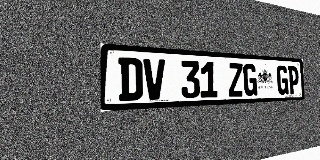1: (200, 61, 217, 98)
3: (181, 60, 200, 99)
D: (118, 57, 143, 101)
G: (243, 63, 257, 96), (276, 65, 288, 95)
P: (288, 66, 299, 94)
V: (143, 58, 165, 100)
Z: (228, 63, 243, 97)
